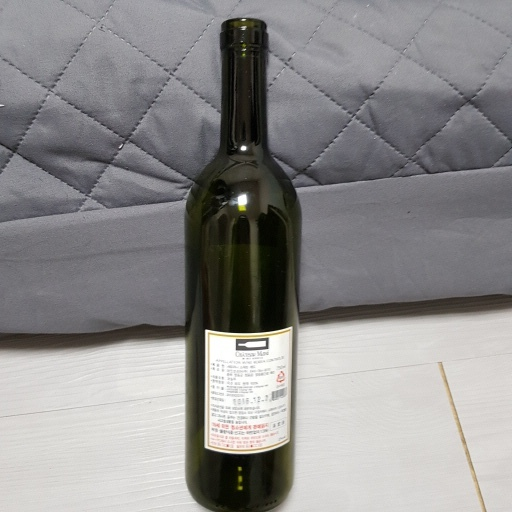Glass_2: (174, 15, 307, 512)
